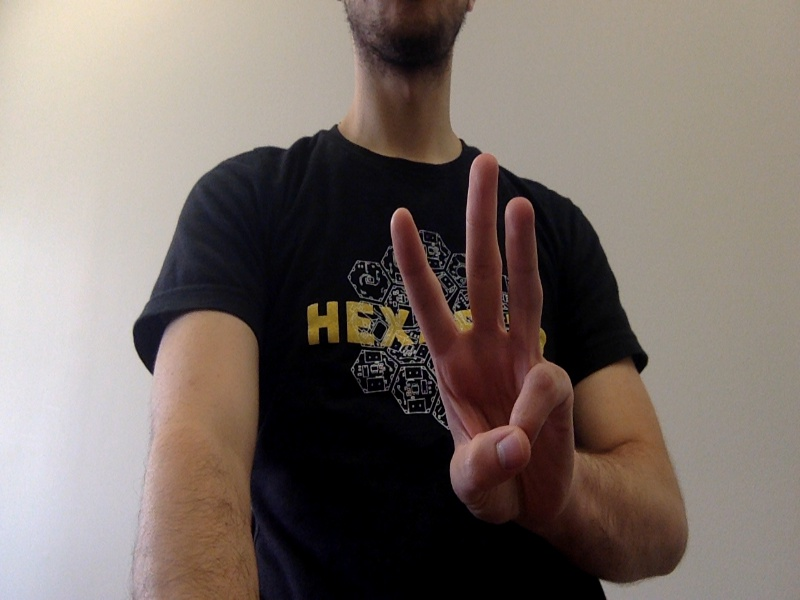3-hand: (391, 155, 574, 520)
